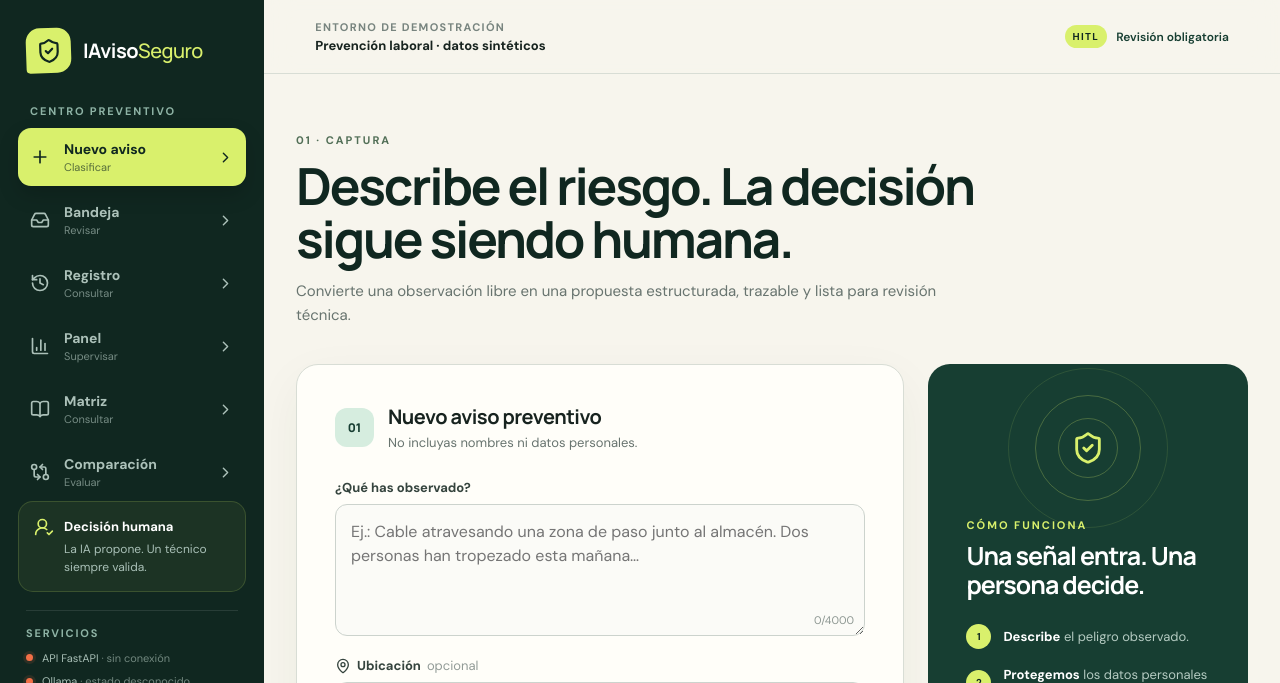
Test: IAviso Seguro › compara velocidad solo con resultados válidos: Ollama falla antes que Gemini
The width and height of the screenshot is (1280, 683).
Click the button "Comparación Evaluar".
click(132, 472)  # box top-left (18, 443), bottom-right (246, 501)
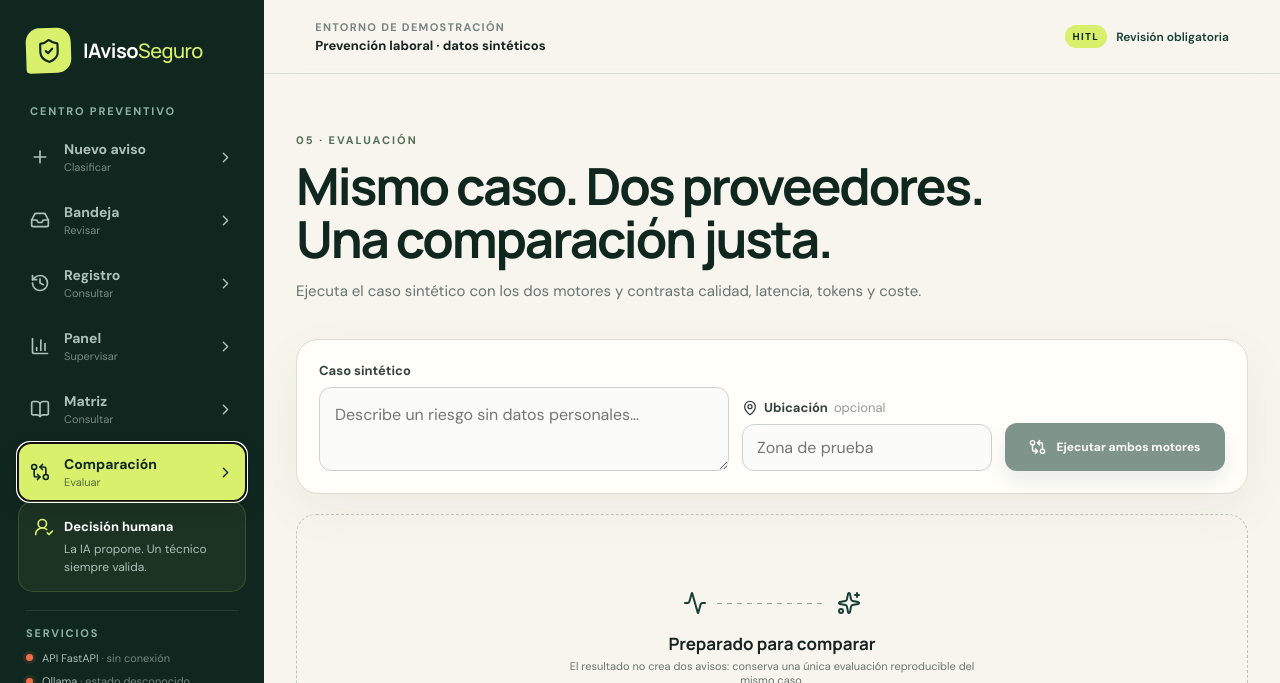
Type "Cable expuesto" into the text box labelled "Caso sintético".
click(524, 429); type("Cable expuesto")  # box top-left (319, 387), bottom-right (729, 471)
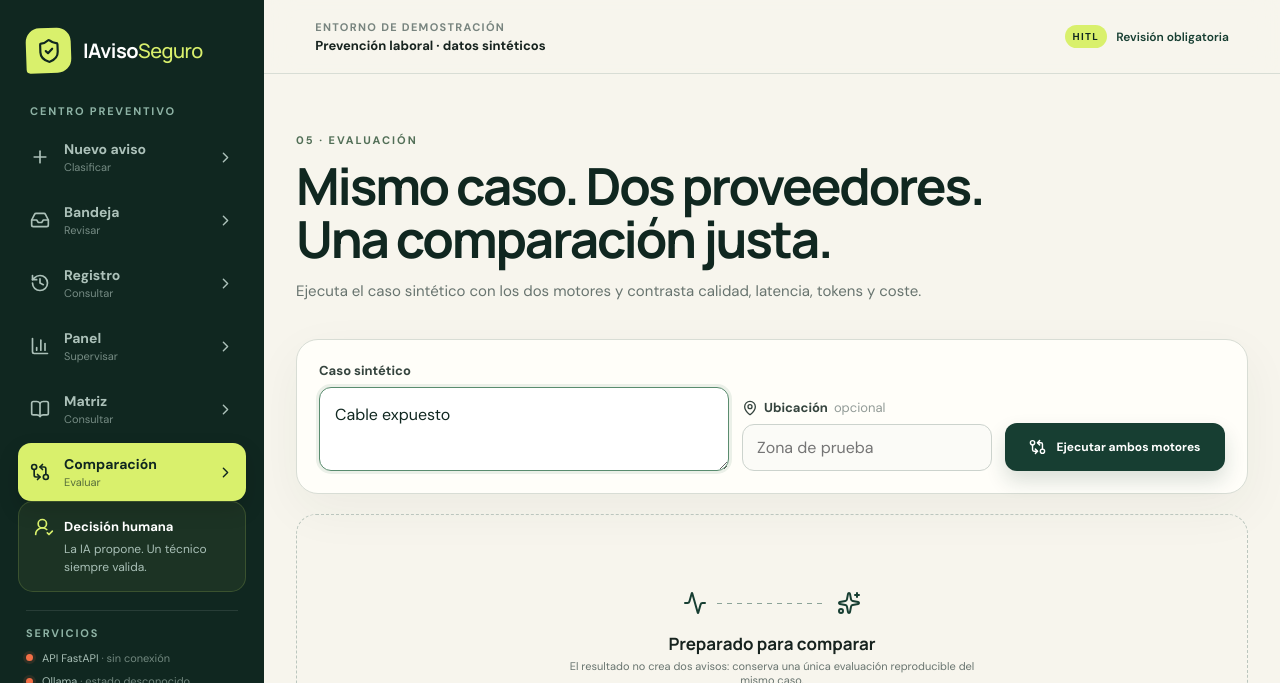
Click the button "Ejecutar ambos motores".
click(1115, 447)  # box top-left (1005, 423), bottom-right (1225, 471)
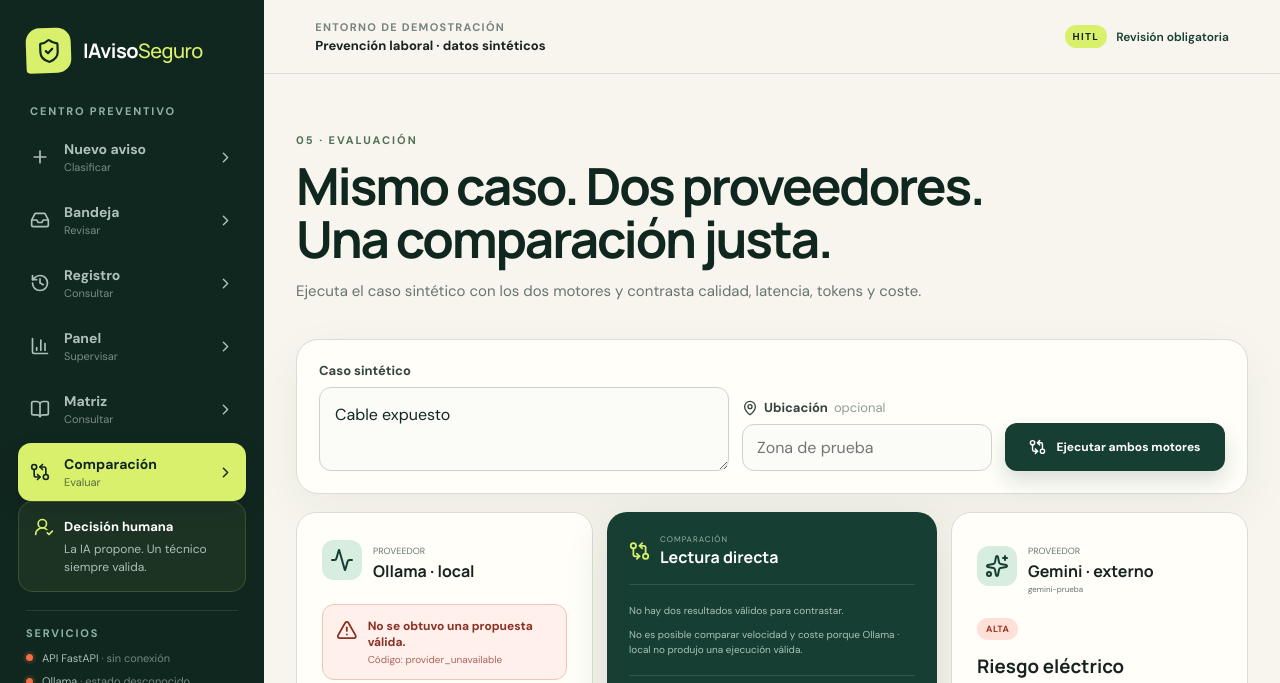
Check: the text "Ollama · local no produjo una ejecución válida" is shown, box top-left (629, 628), bottom-right (899, 656)
